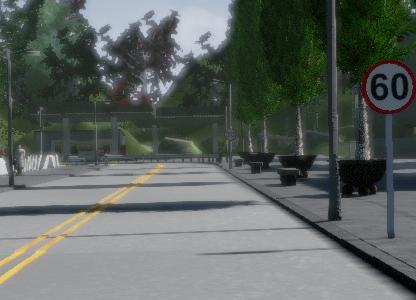Speed_60: (388, 55, 416, 115)
